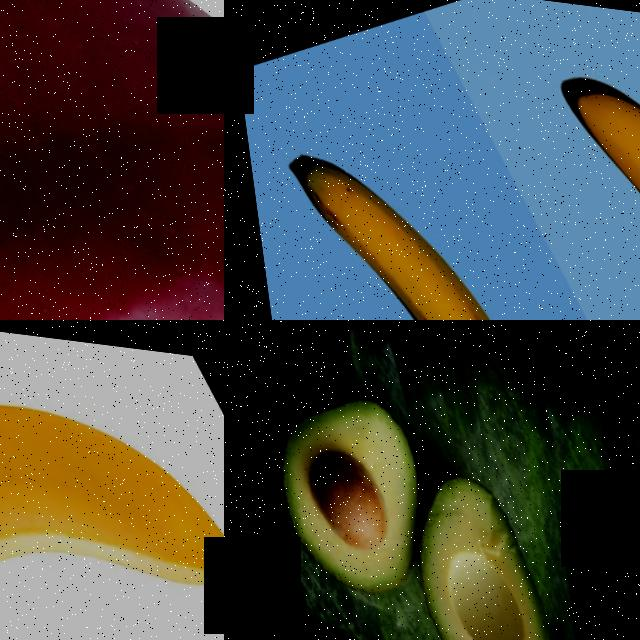apple: (0, 0, 224, 320)
avocado: (224, 357, 472, 618), (346, 437, 587, 640)
banana: (236, 83, 640, 320), (0, 320, 224, 640), (507, 14, 640, 320)
